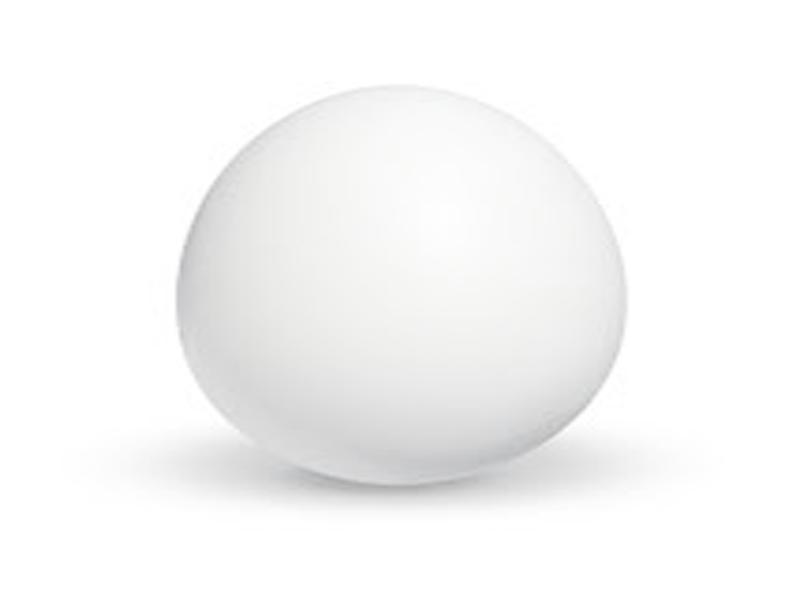Eggs: (183, 82, 624, 483)
